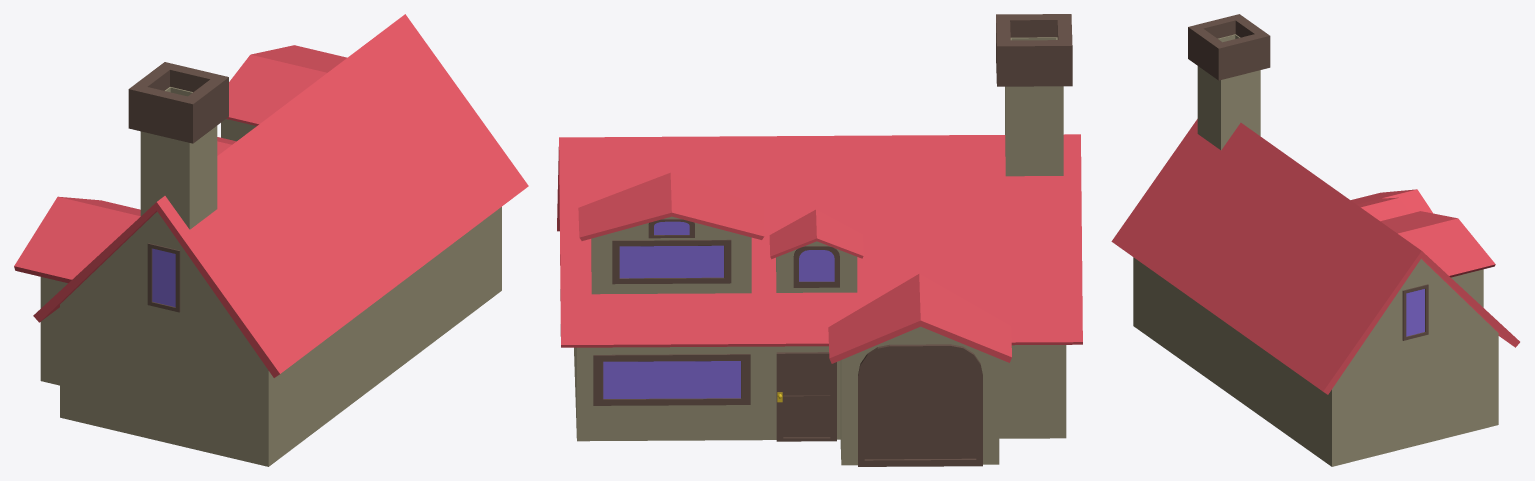
Rendered from CALLE6_CASA1_035.fbx.
3 views of the same model, side by side, from view 1: azimuth 30°, elevation 25°; view 2: azimuth 150°, elevation 25°; view 3: azimuth 270°, elevation 25° (orthographic). The views are drawn at different scales.
Parts seen in each view (by area): view 1: CASA1.035; view 2: CASA1.035; view 3: CASA1.035.
Boxes of the visible parts, x1,y1,x2,y2 form: CASA1.035: [14, 14, 528, 466]; CASA1.035: [557, 14, 1082, 466]; CASA1.035: [1111, 14, 1519, 466].
Size of the model in its own units: 1113 by 734 by 963.
